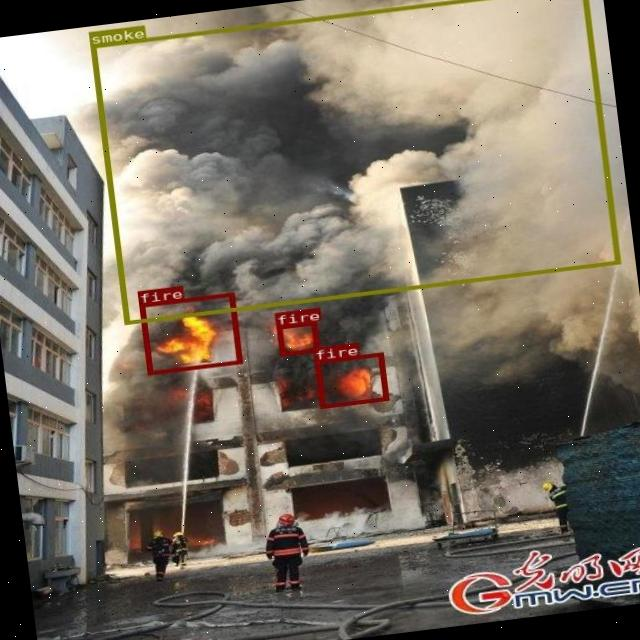fire: (137, 292, 240, 374), (314, 352, 387, 408), (276, 320, 318, 356)
smoke: (89, 0, 618, 323)
